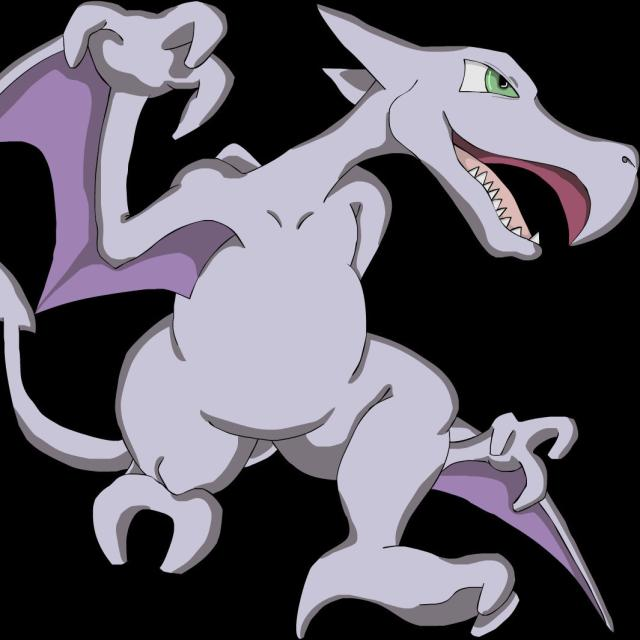Aerodactyl: (30, 13, 605, 574)
